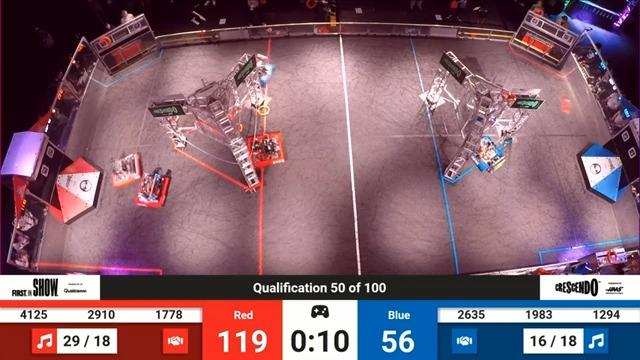robot: (243, 126, 286, 171), (132, 177, 177, 212), (244, 49, 279, 91), (467, 138, 509, 171), (108, 154, 144, 187)
